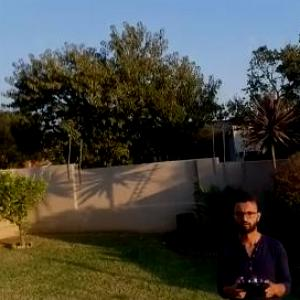follow: (213, 189, 297, 299)
